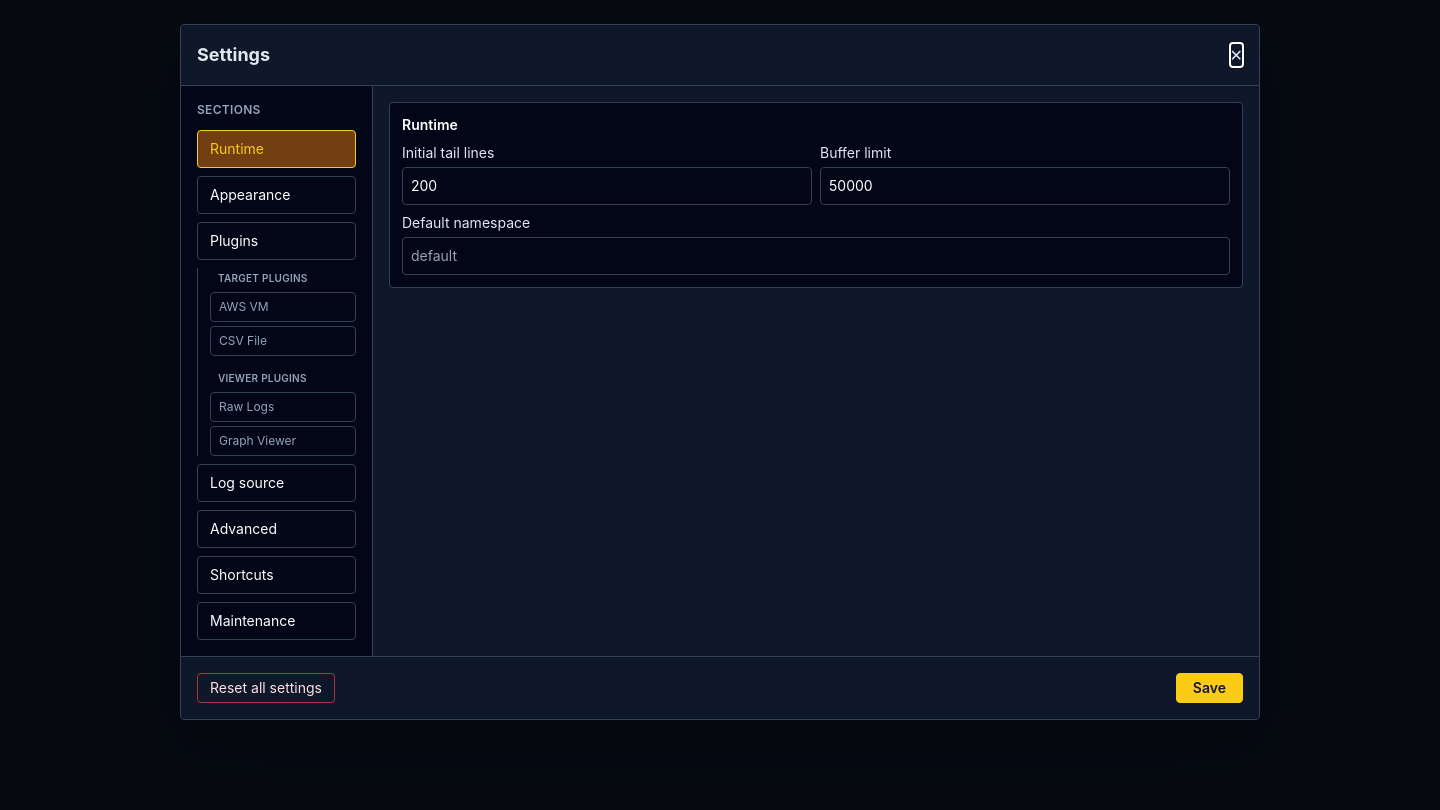
Test: SettingsModal log policy selection › accepts VM passwords directly and masks them after editing
The image size is (1440, 810).
Click the button "AWS VM" at {"x": 283, "y": 307}, box [210, 292, 356, 322]
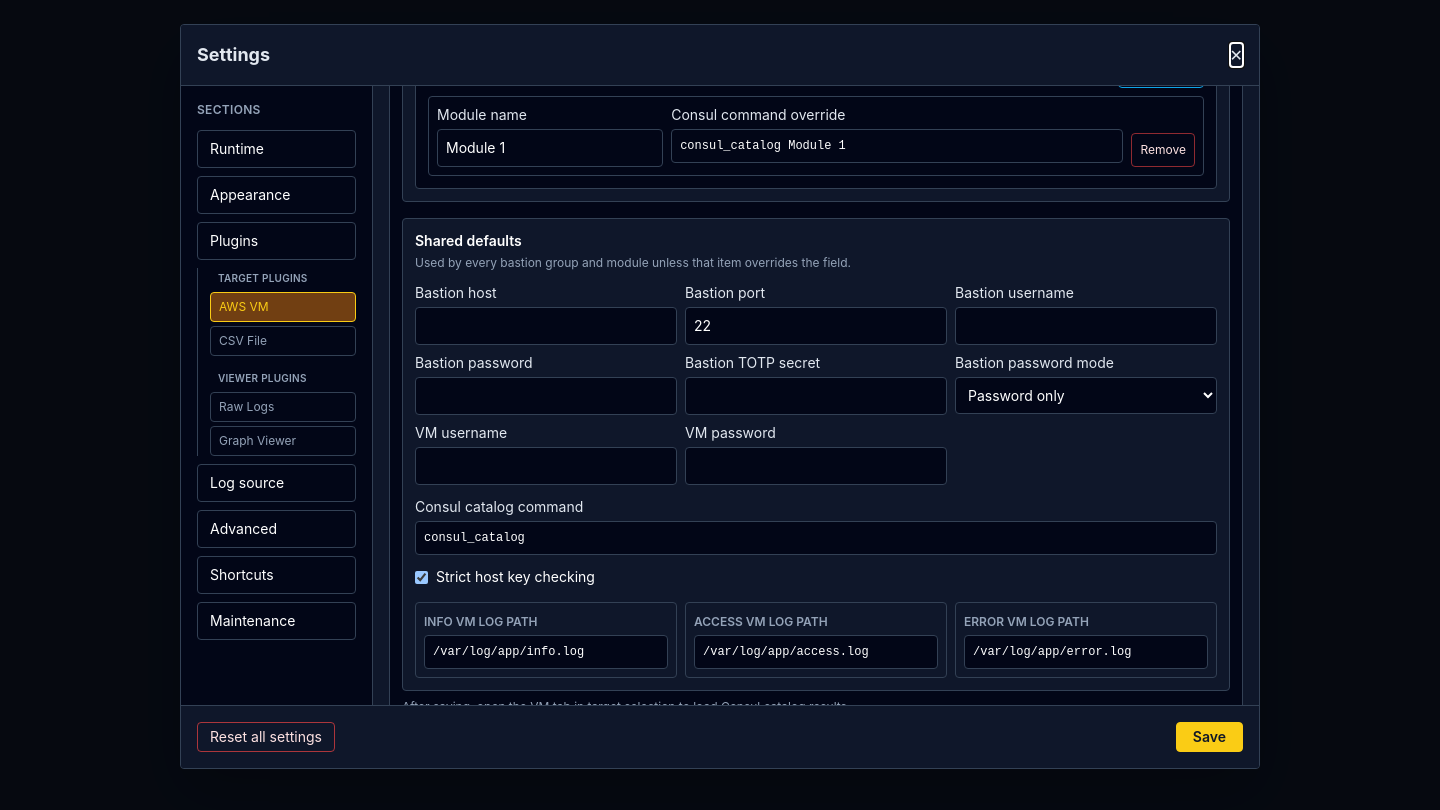
Type "direct-secret" into the field labelled "Bastion password" at {"x": 546, "y": 396}, box [415, 377, 677, 415]
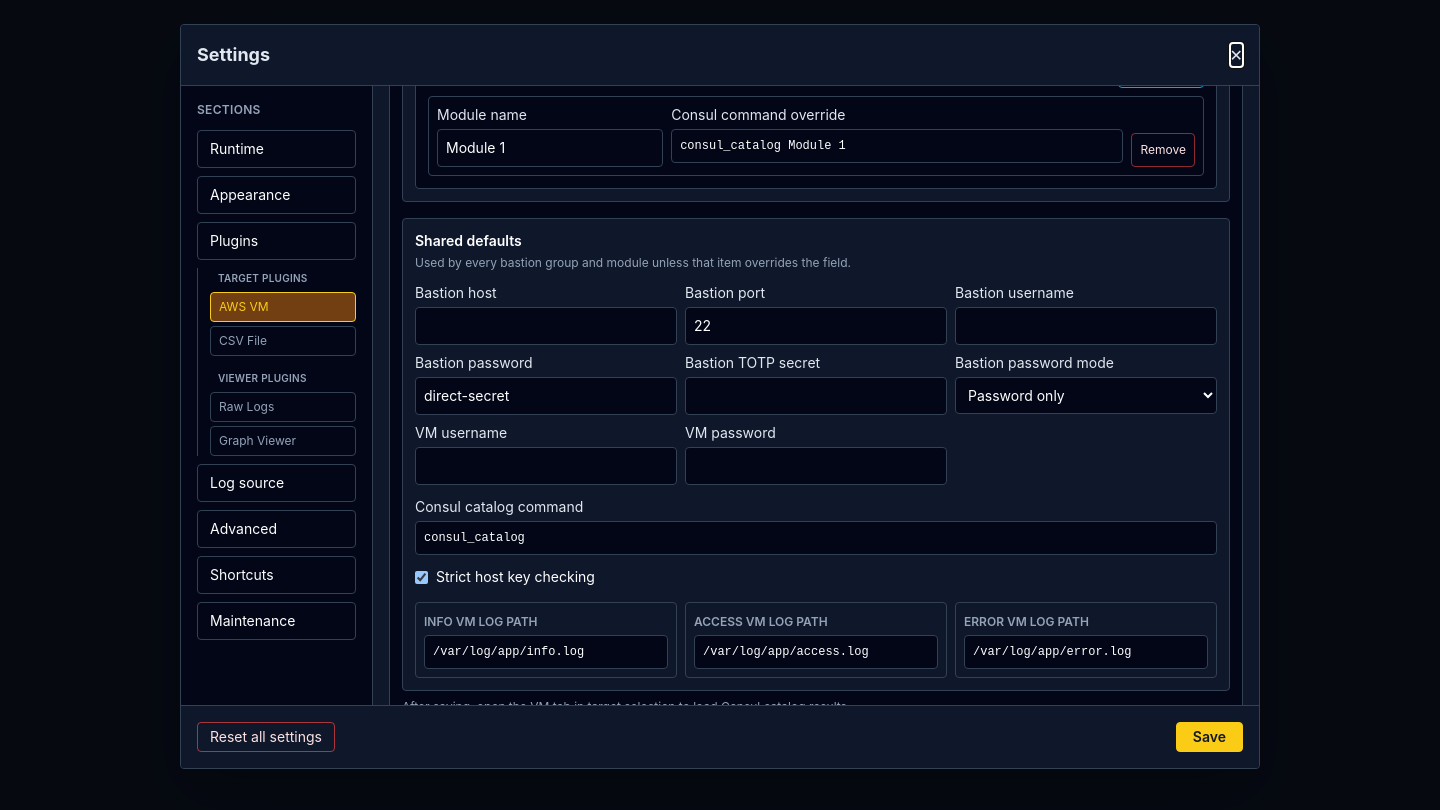
Leave the field labelled "Bastion password", box [415, 377, 677, 415]
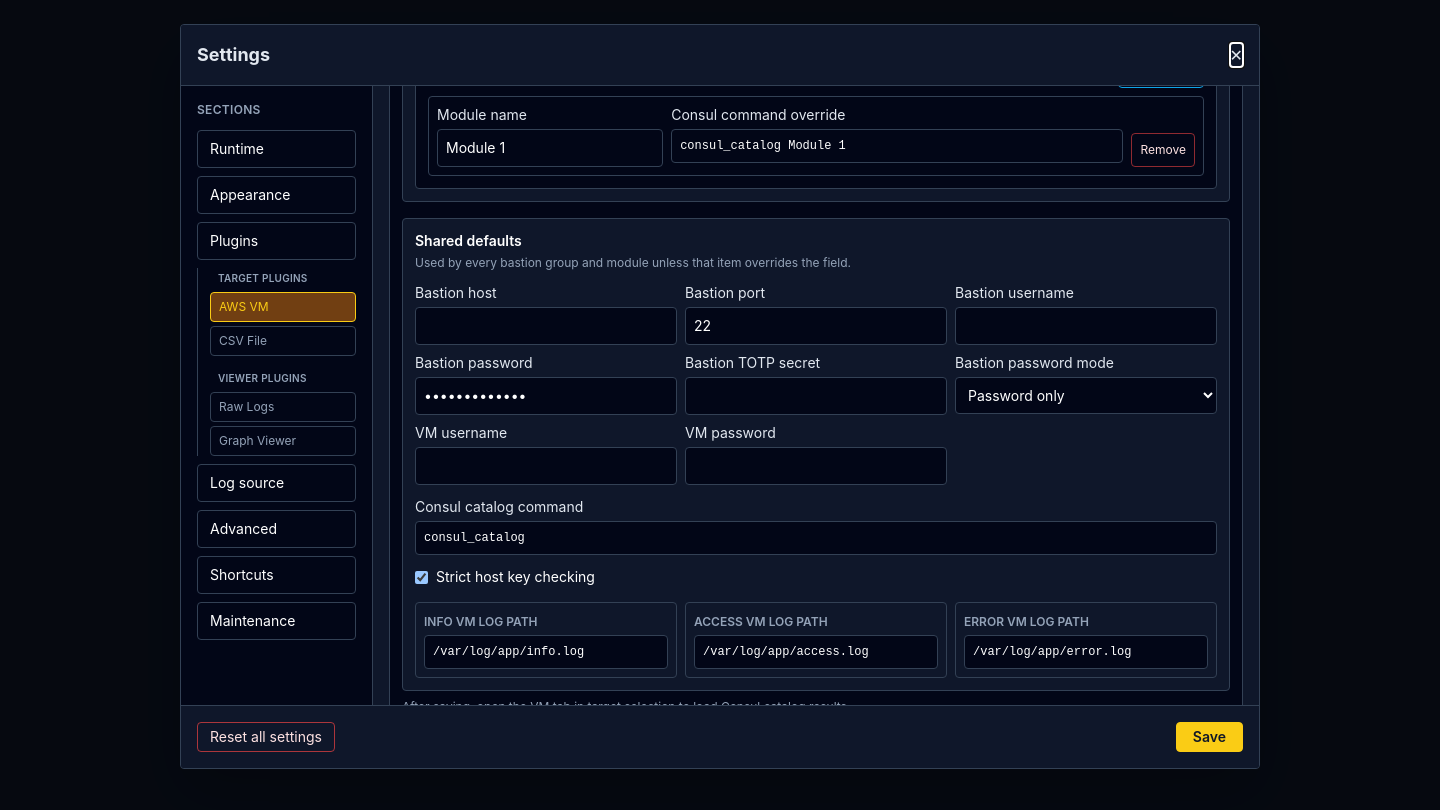
Now the password field labelled "Bastion password" hides its text, box [415, 377, 677, 415]
